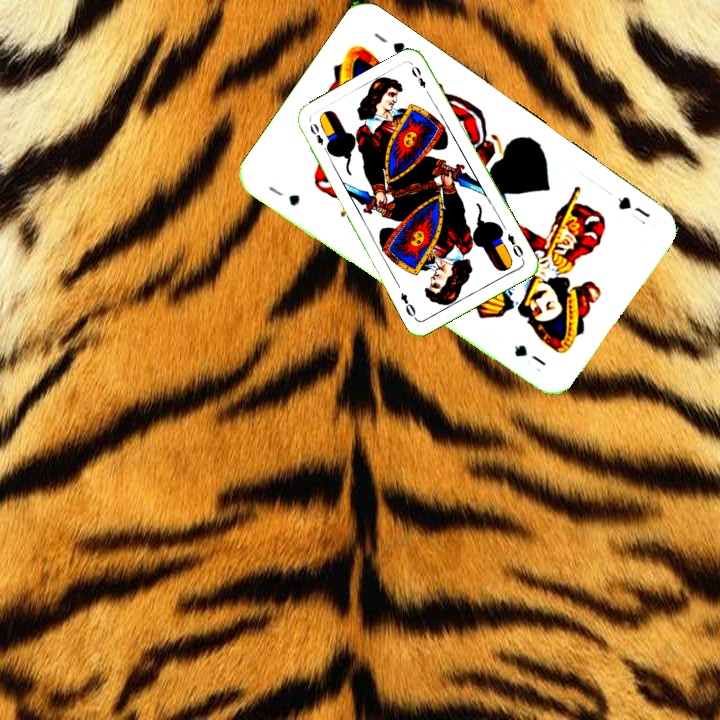EO: (306, 119, 331, 156), (503, 229, 526, 263)
GU: (613, 192, 653, 228), (264, 182, 303, 209)
